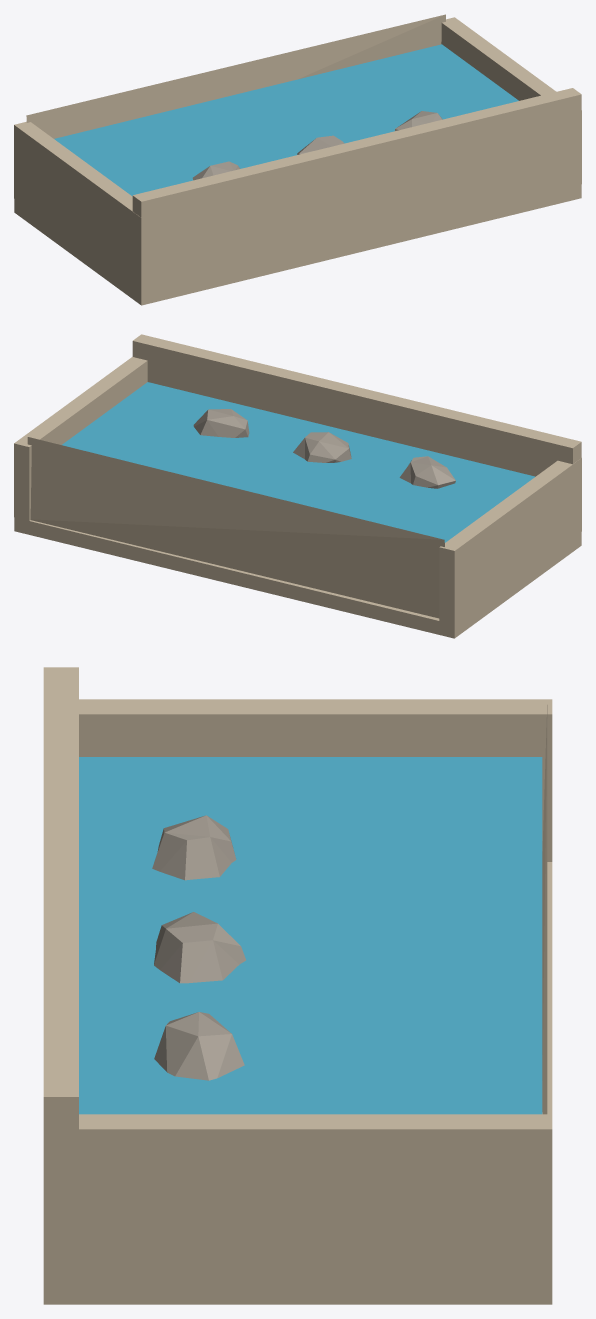
Rendered from touch_pool.fbx.
The picture shows the model from 3 angles, top to bottom: view 1: azimuth 30°, elevation 25°; view 2: azimuth 150°, elevation 25°; view 3: azimuth 270°, elevation 25°; orthographic projection. The views are drawn at different scales.
Parts seen in each view (by area): view 1: touch_pool; view 2: touch_pool; view 3: touch_pool.
Part boxes in pixels (box(x1,y1,x2,y2)): touch_pool: box(14, 14, 581, 305); touch_pool: box(14, 334, 581, 638); touch_pool: box(43, 667, 552, 1304).
Size of the model in its own units: 4 by 0.9 by 2.
